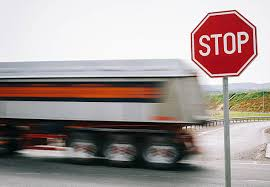stop sign: (190, 10, 257, 78)
